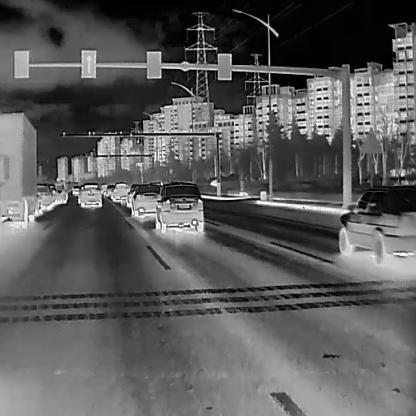car: (338, 183, 415, 265), (0, 111, 36, 229), (153, 180, 203, 232), (129, 183, 163, 217), (79, 182, 101, 207), (36, 182, 53, 211), (110, 181, 130, 203), (52, 182, 68, 203), (49, 183, 60, 205), (104, 183, 114, 196), (99, 181, 109, 194), (71, 184, 81, 195)
